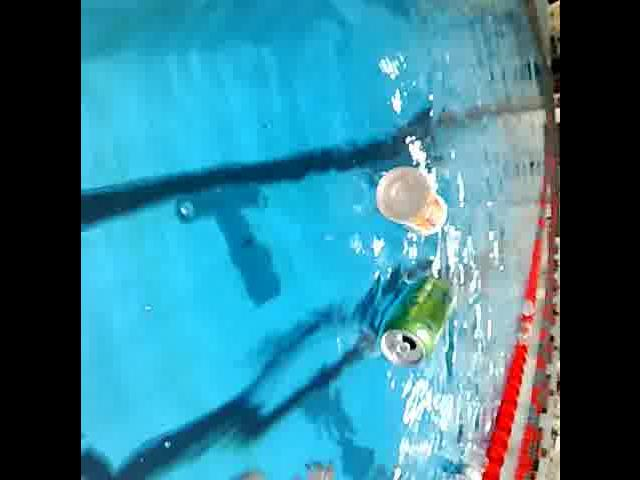Bottle: (370, 156, 450, 240), (438, 435, 490, 480)
Can: (372, 270, 452, 378)
